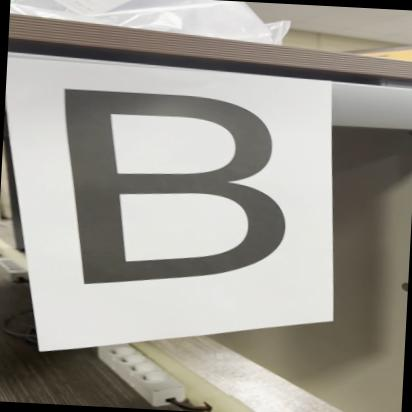seat: (46, 78, 297, 306)
